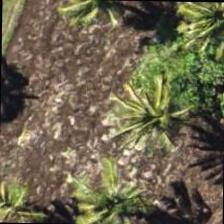Kelapa_Sawit: (103, 62, 195, 154), (58, 153, 150, 223), (0, 156, 53, 223), (174, 1, 223, 60)
